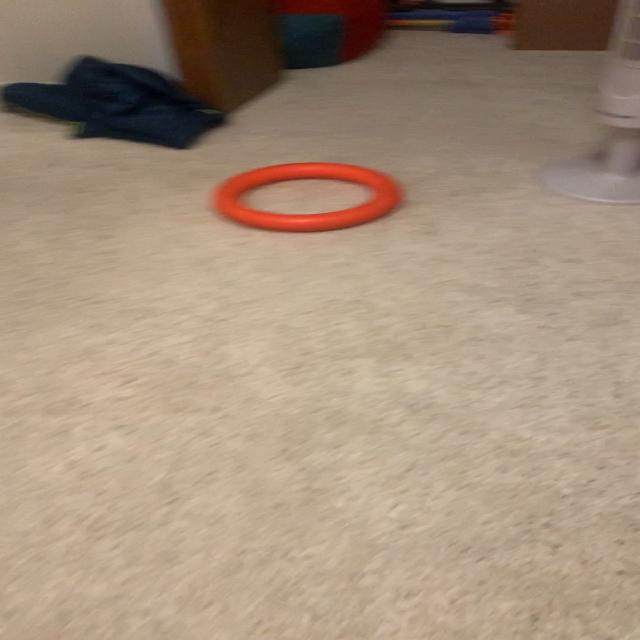notes: (210, 164, 400, 234)
